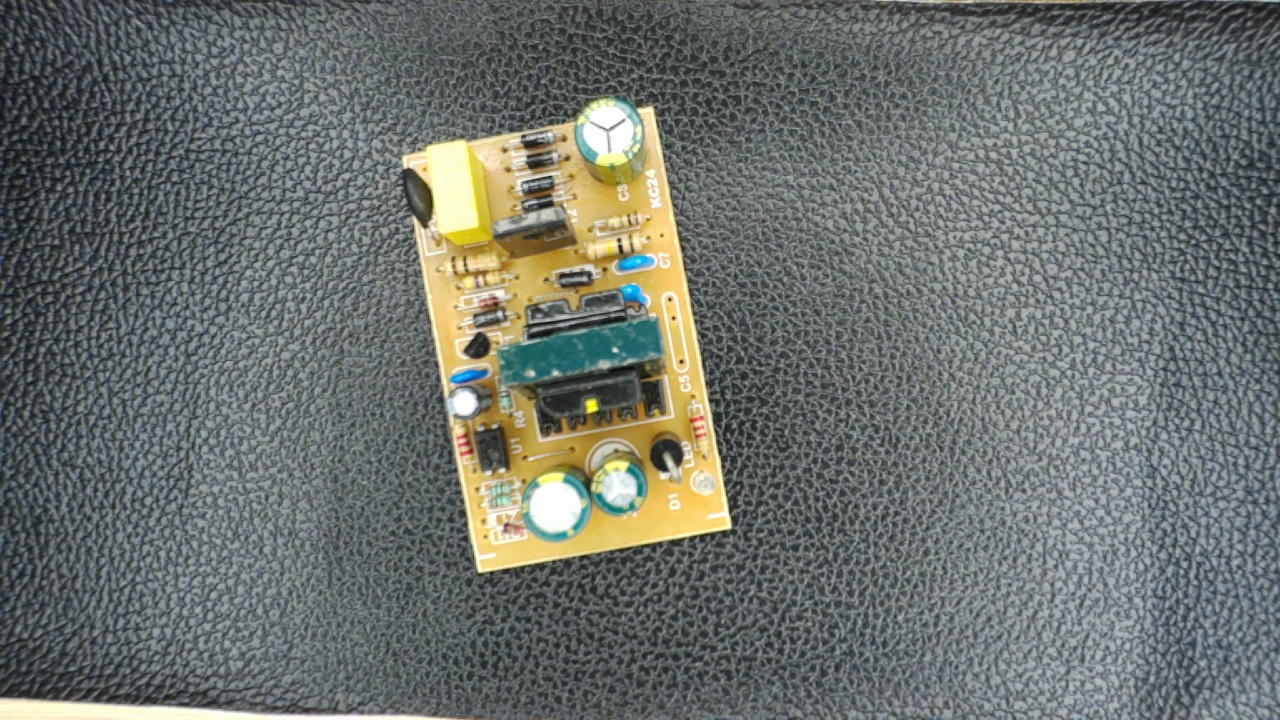fuse: (398, 159, 437, 240)
hv_capacitor: (569, 96, 651, 186)
optocoupler: (468, 420, 522, 479)
